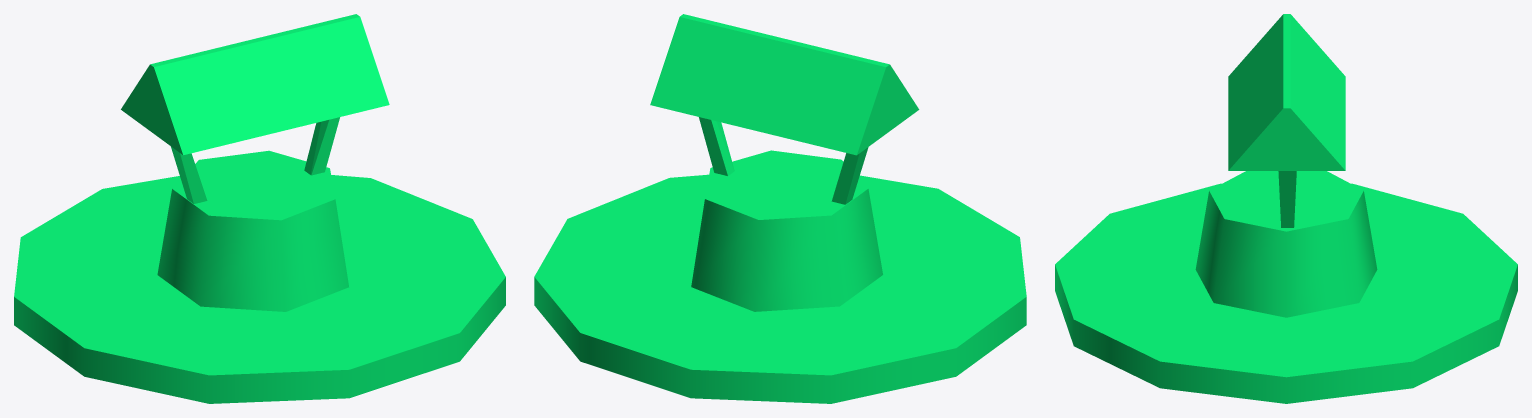
The model's file is Well_Collision.FBX.
3 views of the same model, side by side, from view 1: azimuth 30°, elevation 25°; view 2: azimuth 150°, elevation 25°; view 3: azimuth 270°, elevation 25° (orthographic). The views are drawn at different scales.
Visible parts, largest first — view 1: Well_Collision; view 2: Well_Collision; view 3: Well_Collision.
Boxes of the visible parts, x1,y1,x2,y2 form: Well_Collision: [14, 14, 505, 403]; Well_Collision: [534, 14, 1026, 403]; Well_Collision: [1055, 14, 1517, 403].
Size of the model in its own units: 7.54 by 4.42 by 7.62.
